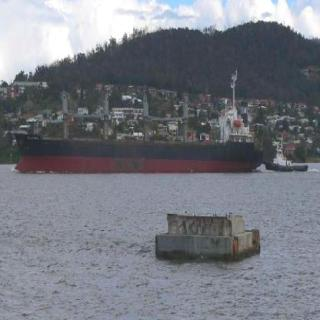Bulk Carrier: (5, 94, 267, 171)
